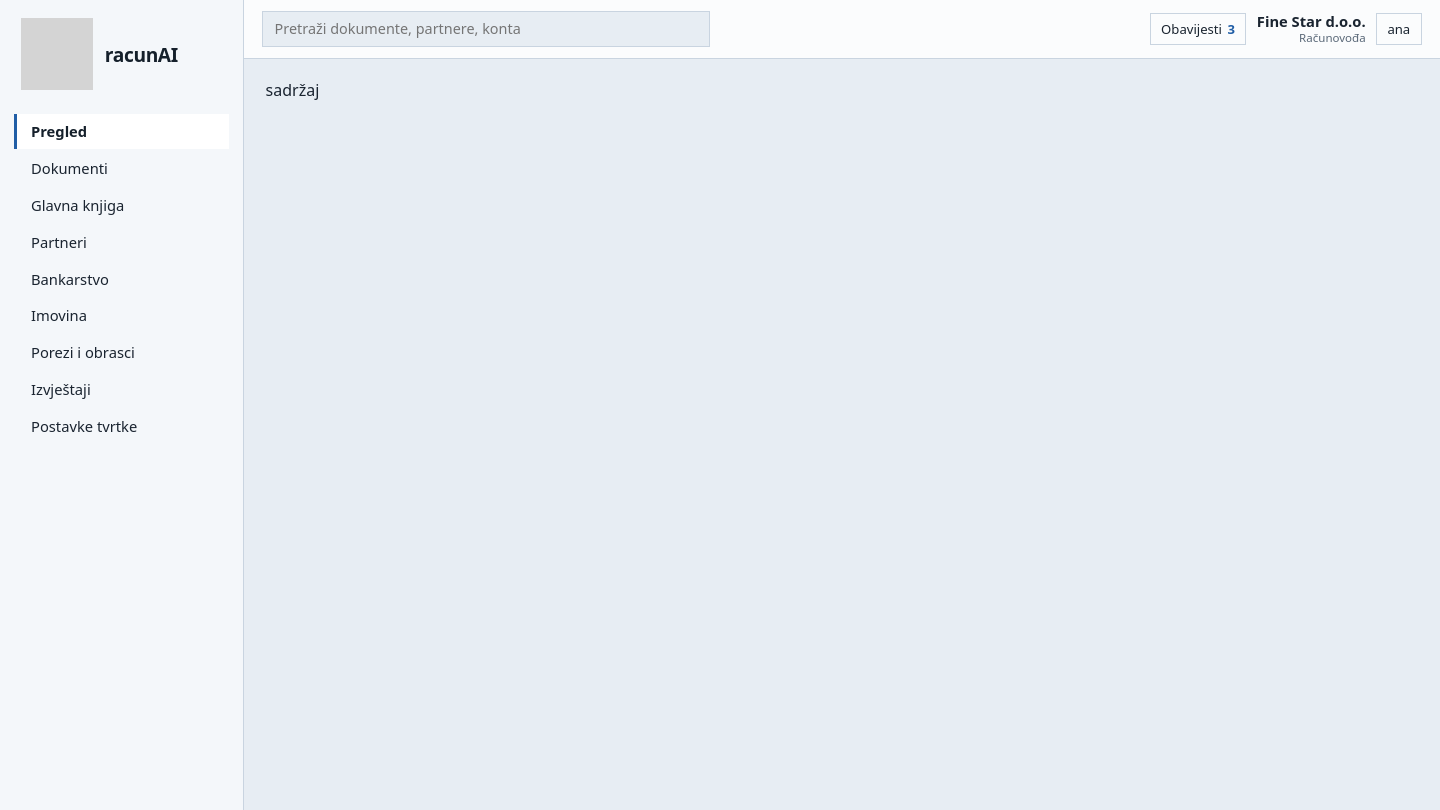
Test: AppShell › shows Fine Star, real nav links, and never Admin for an ordinary user
Expected: the text "Fine Star d.o.o." is shown, [1257,13,1366,31]
Expected: the navigation bar named "Glavna navigacija" shows "Pregled", [14,114,229,149]
What coordinates should you click on to do the following:
click the button with test id "user-menu"
I would click on:
 (1399, 29)
Its box is [1376,13,1422,45].
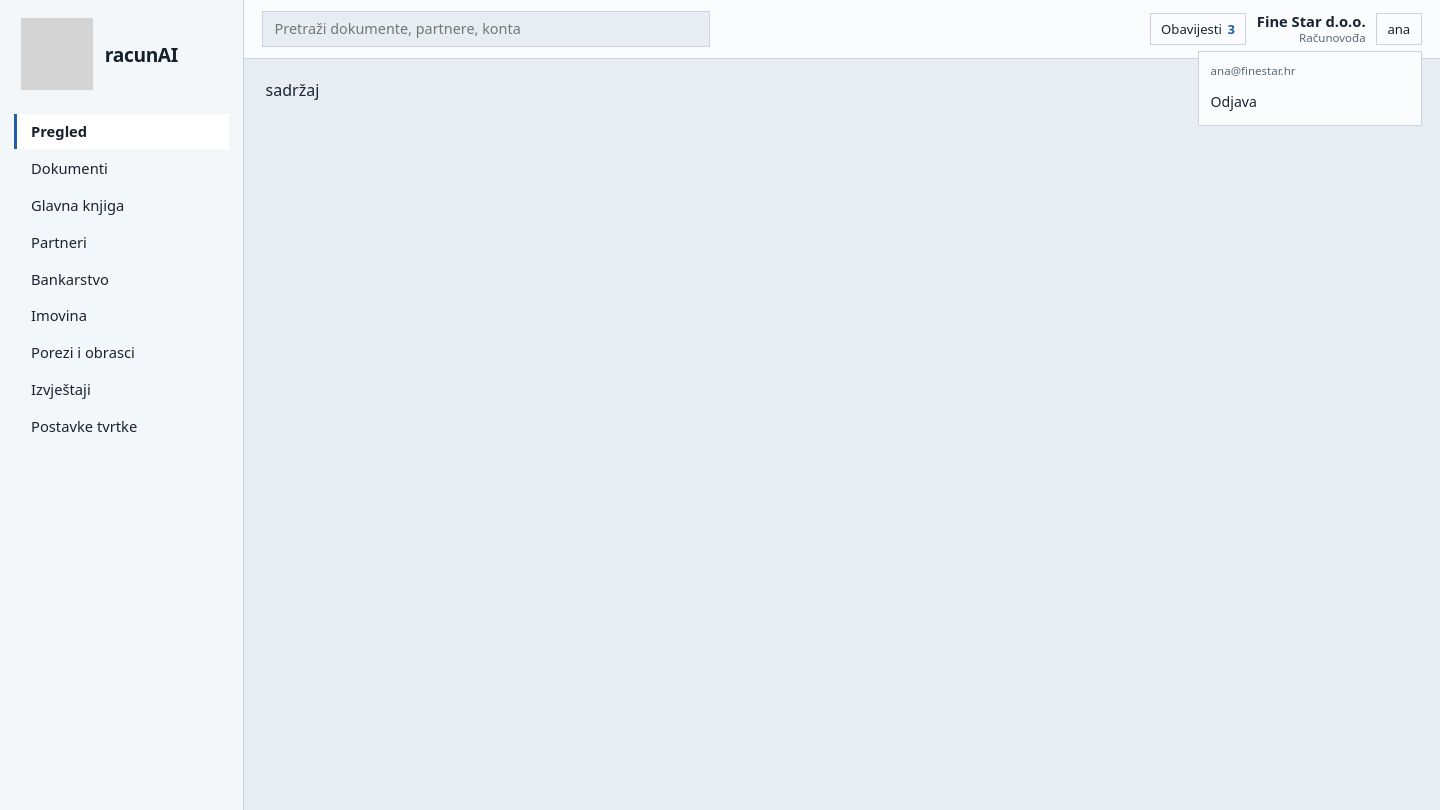
Expected: the menu item "Odjava" is shown, [1199,85,1421,118]
